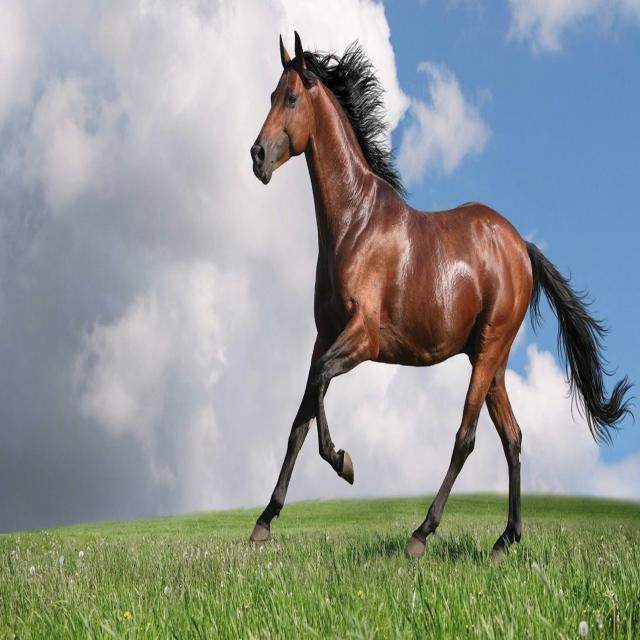horse: (251, 32, 632, 559)
